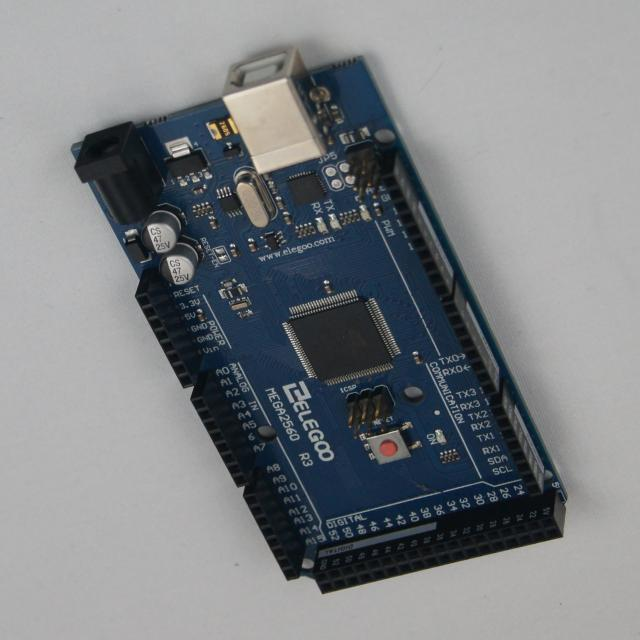Arduino Mega 2560 -Blue-: (74, 50, 568, 593)
